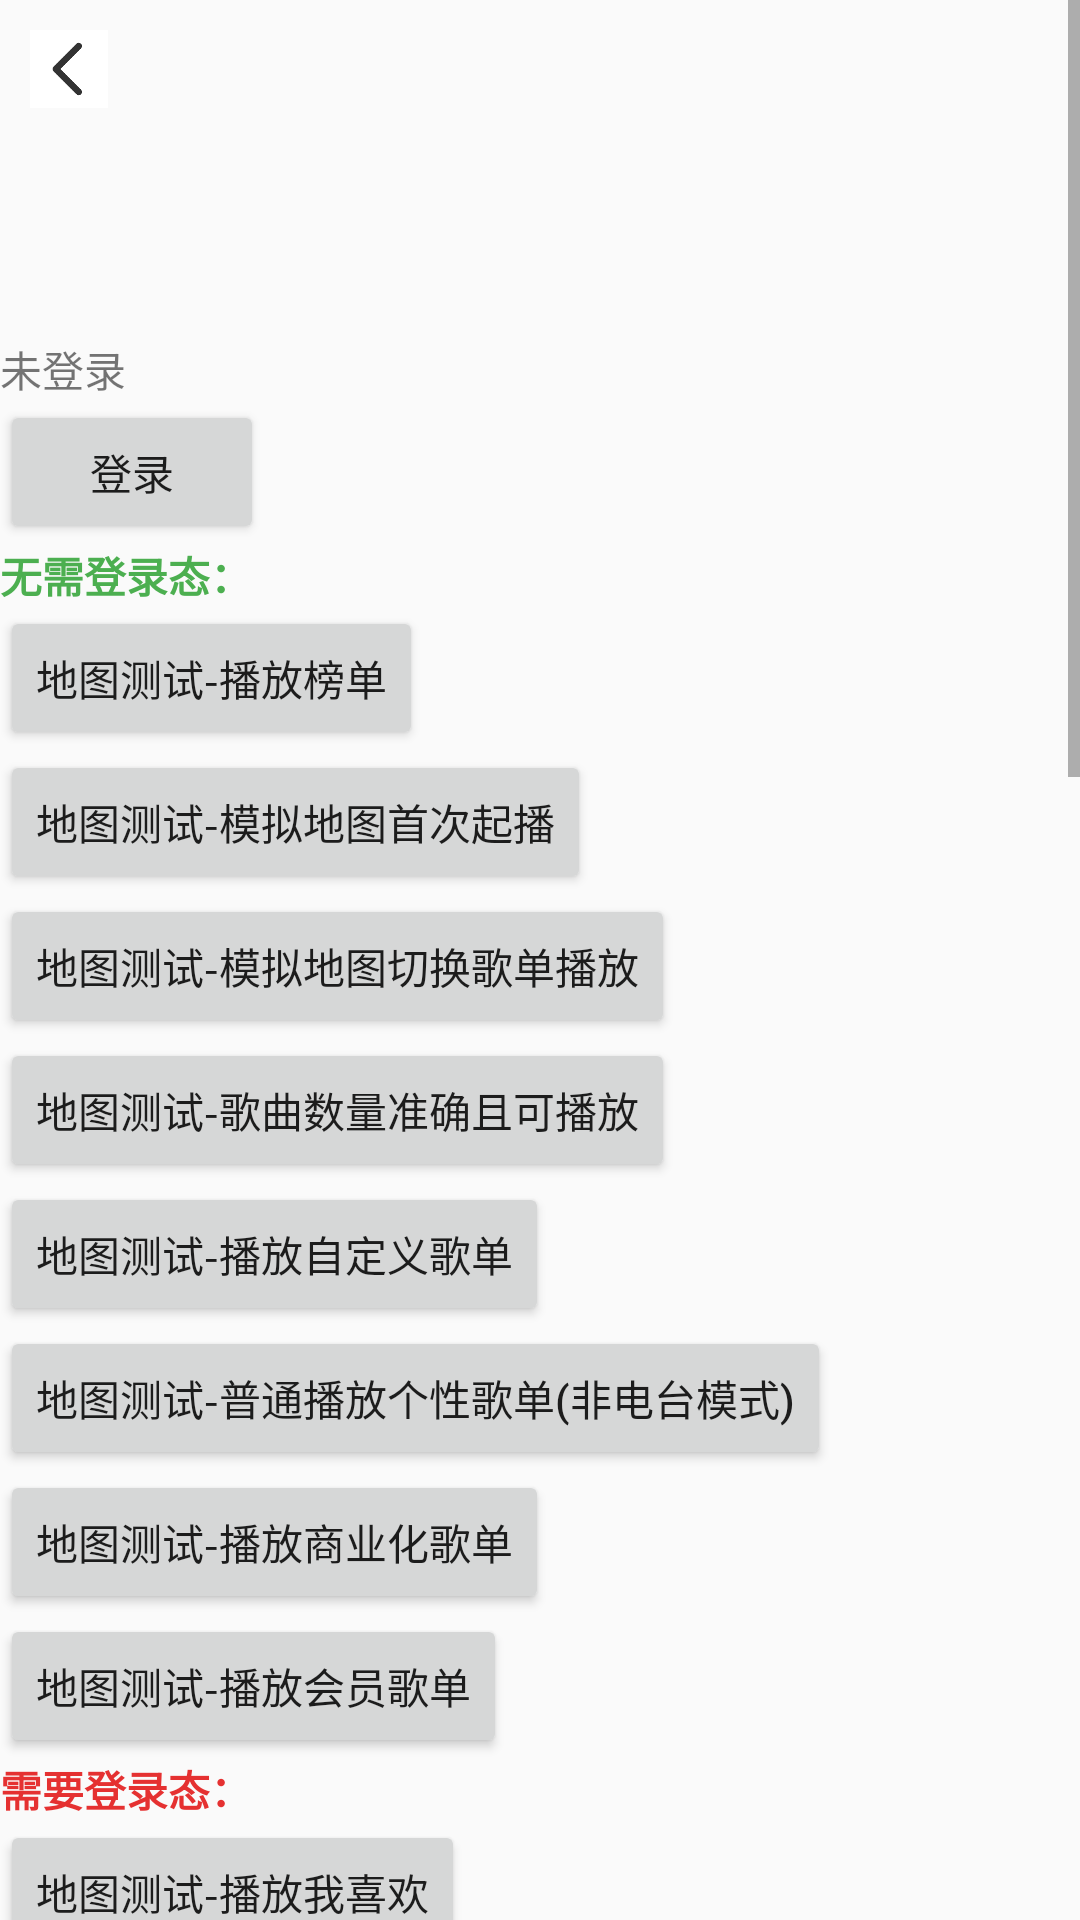

Locate icon controls on the screen. Image size 1080×1920, boxes as (x1, y1, x2, y2).
back: (52, 42, 82, 95)
